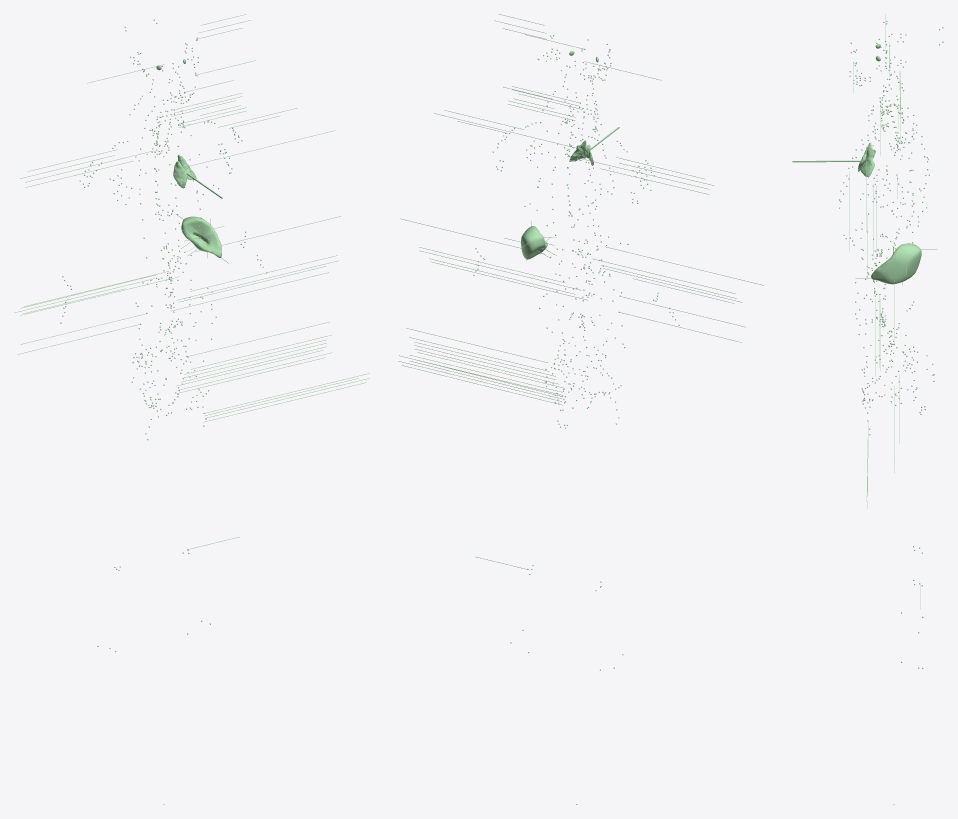
The model's file is lymphatic.glb.
The picture shows the model from 3 angles, left to right: view 1: azimuth 30°, elevation 25°; view 2: azimuth 150°, elevation 25°; view 3: azimuth 270°, elevation 25°; orthographic projection.
Parts seen in each view (by area): view 1: Spleen; view 2: no part large enough to name; view 3: Spleen, Left lobe of thymus.
Part boxes in pixels (bbox=[...]): Spleen: bbox=[181, 216, 221, 257]; Spleen: bbox=[871, 243, 921, 284]; Left lobe of thymus: bbox=[860, 142, 875, 177].
Bounding box in the file's own units: 0.7822 × 1.61 × 0.2839.
